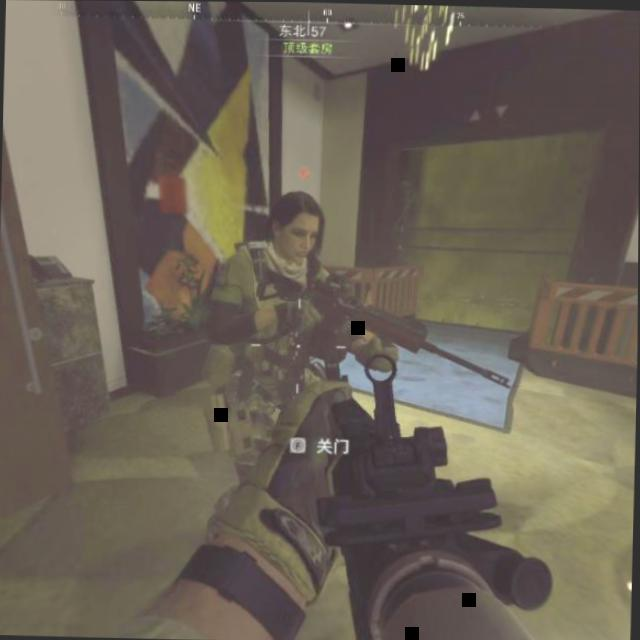MW2_body: (199, 163, 401, 469)
